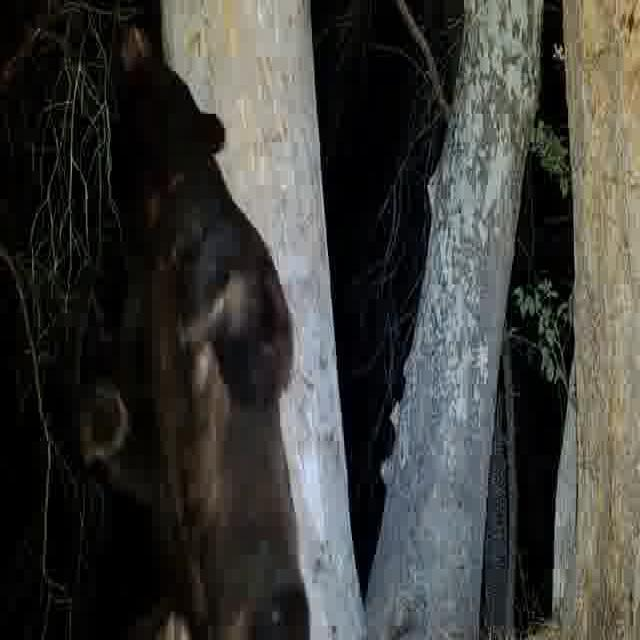bear face: (74, 15, 308, 640)
